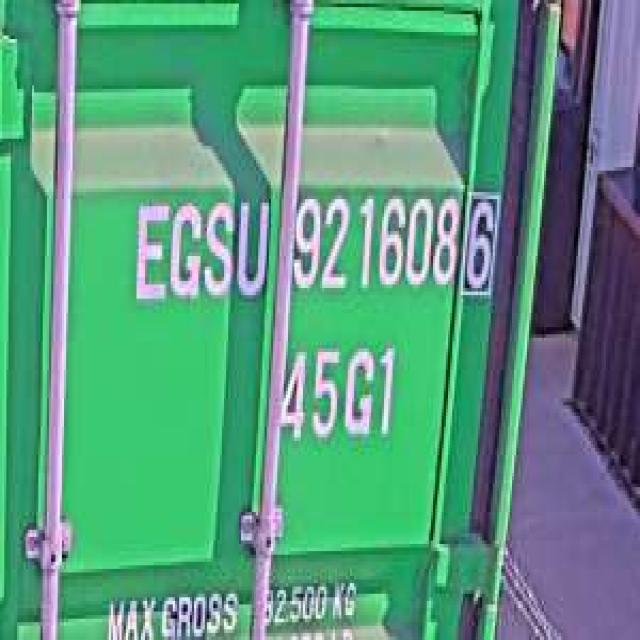dv: (459, 178, 501, 302)
owner: (126, 188, 271, 313)
serial: (286, 180, 461, 305)
size: (277, 334, 399, 452)
